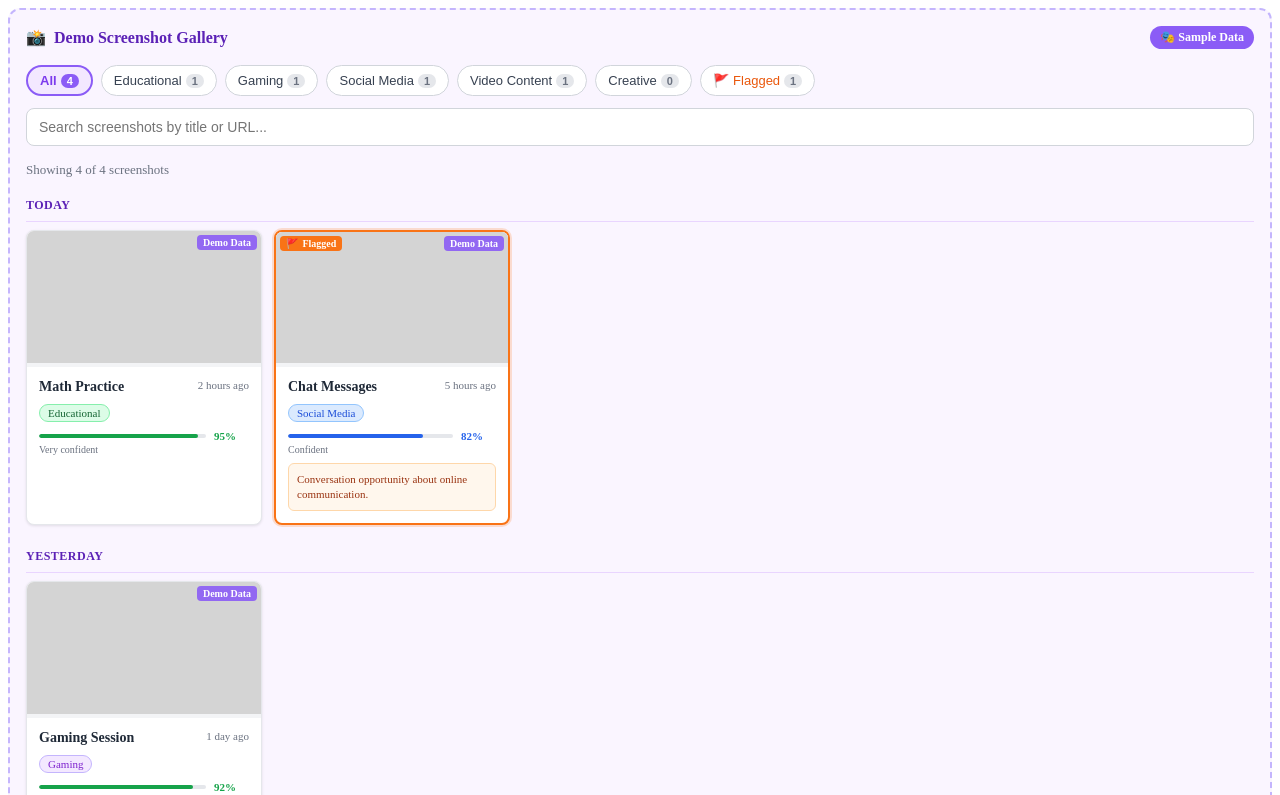
Test case: DemoScreenshotGallery (Story 8.5.2) › AC6: Filter chips › should filter to flagged screenshots
The width and height of the screenshot is (1280, 795).
Note: Click Flagged filter
Step 1. Click the button with test id "filter-chip-flagged" → (758, 80), box top-left (700, 65), bottom-right (815, 96)
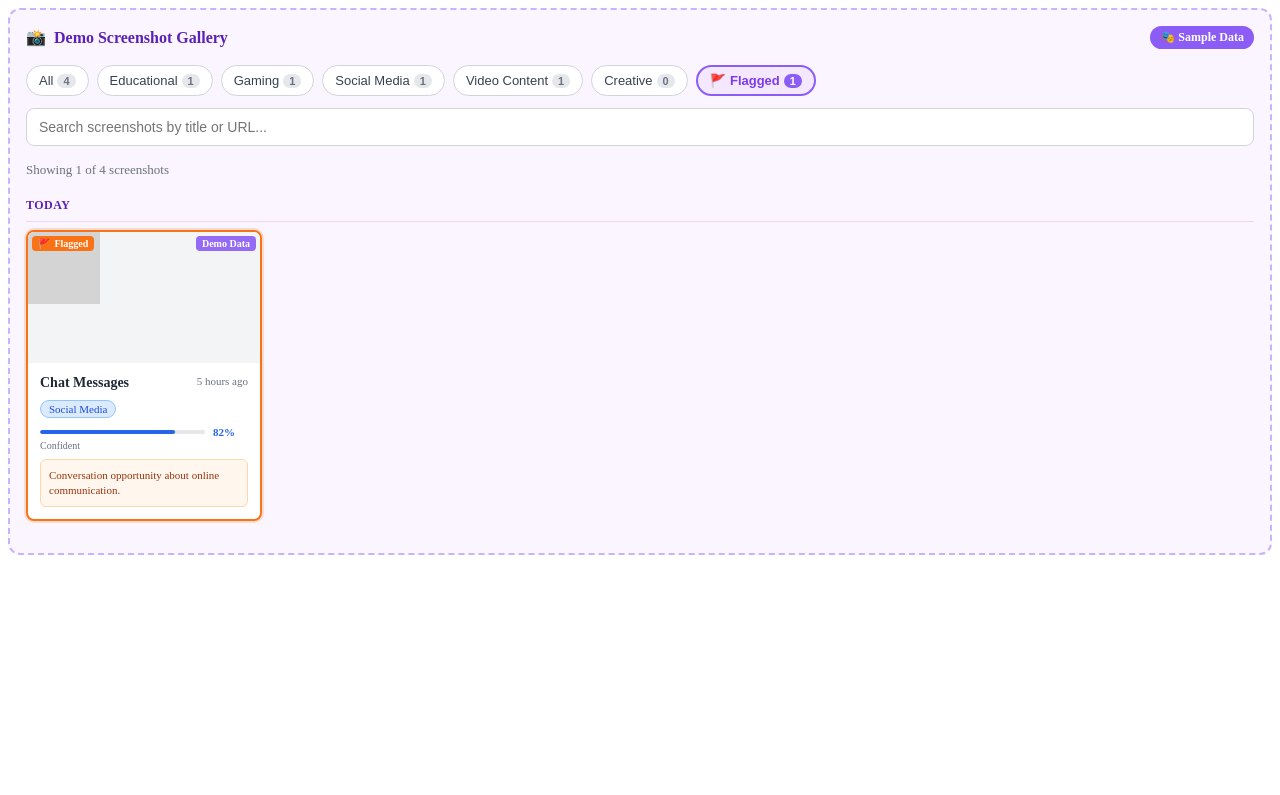
Now the text with test id "results-count" shows "Showing 1 of 4", box top-left (26, 162), bottom-right (169, 177)
